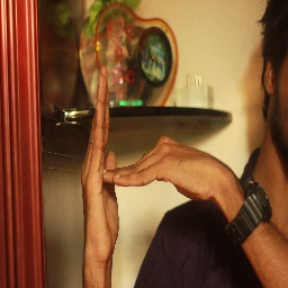Z: (77, 71, 218, 264)
